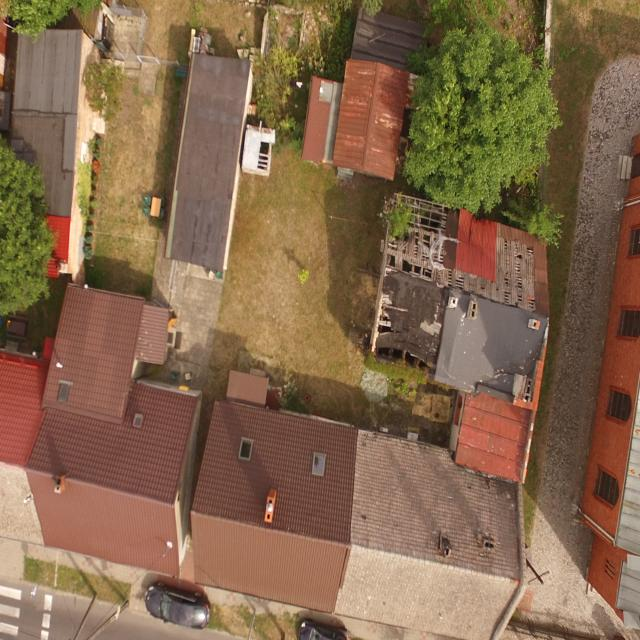cars: (148, 587, 211, 629), (304, 621, 348, 640)
houses: (18, 280, 206, 576), (328, 412, 535, 640), (187, 378, 360, 611), (162, 28, 256, 278), (328, 54, 416, 184), (0, 351, 49, 547), (296, 67, 342, 165)
trees: (423, 33, 545, 212), (0, 143, 46, 317), (423, 0, 518, 26)
